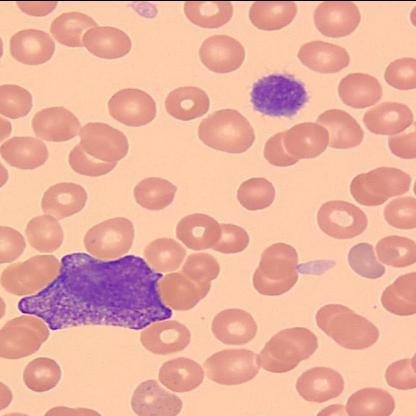Myelocyte: (14, 249, 174, 335)
